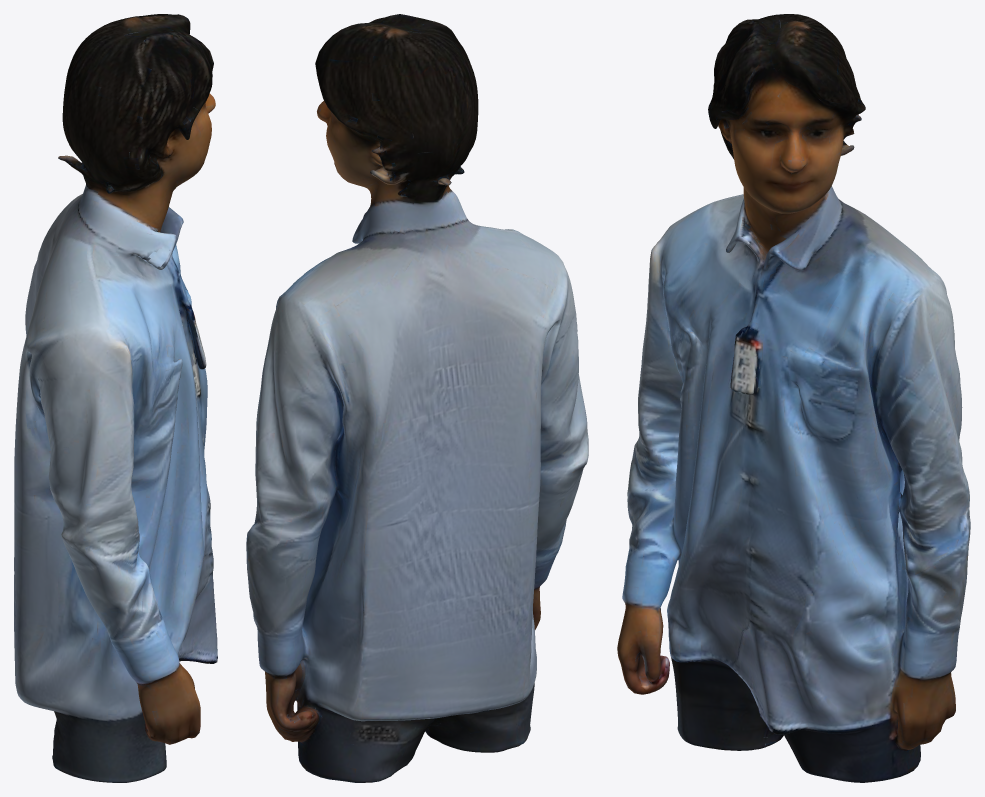
File: avatar.glb
The picture shows the model from 3 angles, left to right: view 1: azimuth 30°, elevation 25°; view 2: azimuth 150°, elevation 25°; view 3: azimuth 270°, elevation 25°; orthographic projection. The views are drawn at different scales.
Visible parts, largest first — view 1: tripo_node_de331ce1-c533-410f-85db-193020596108; view 2: tripo_node_de331ce1-c533-410f-85db-193020596108; view 3: tripo_node_de331ce1-c533-410f-85db-193020596108.
Boxes of the visible parts, x1=… form: tripo_node_de331ce1-c533-410f-85db-193020596108: x1=14, y1=14, x2=217, y2=782; tripo_node_de331ce1-c533-410f-85db-193020596108: x1=246, y1=14, x2=588, y2=782; tripo_node_de331ce1-c533-410f-85db-193020596108: x1=617, y1=14, x2=970, y2=782.
Size of the model in its own units: 0.3134 by 0.9988 by 0.4375.
Materials: 1 (1 with a texture image).
